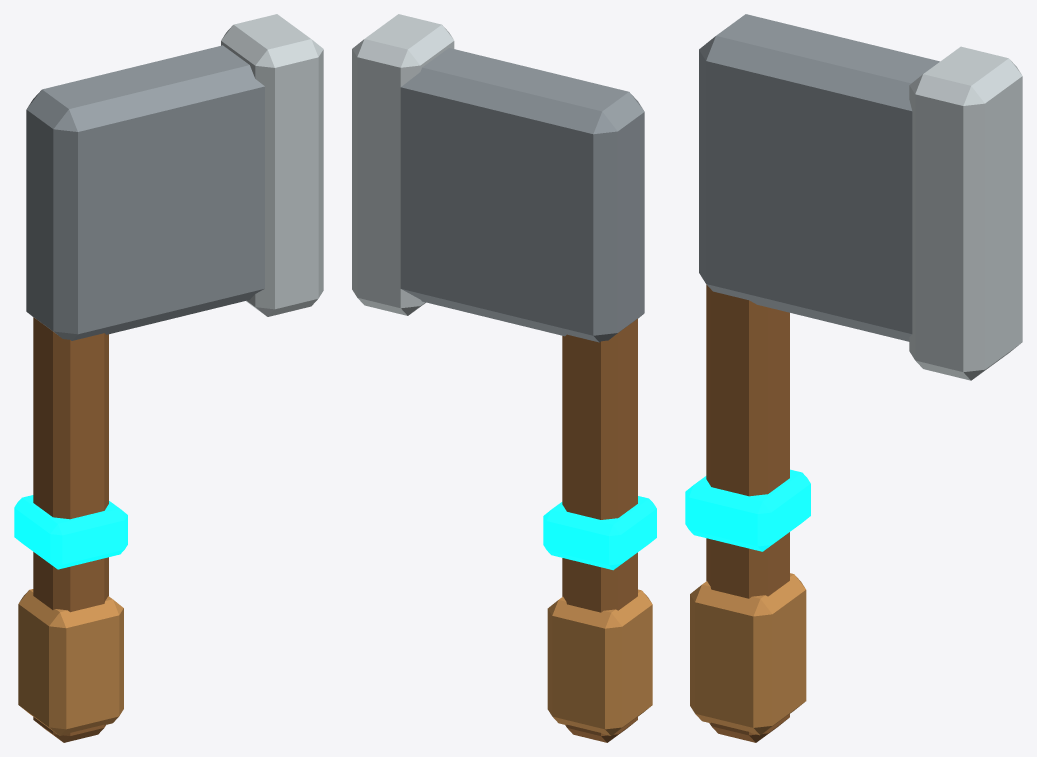
File: voxhaven-axe.glb
3 renders of one model, left to right at view 1: azimuth 30°, elevation 25°; view 2: azimuth 150°, elevation 25°; view 3: azimuth 330°, elevation 25°, orthographic. The views are drawn at different scales.
Parts seen in each view (by area): view 1: AxeHead, AxeBlade, Handle.001, Grip.001, GripBand.001; view 2: AxeHead, Handle.001, AxeBlade, Grip.001, GripBand.001; view 3: AxeHead, AxeBlade, Handle.001, Grip.001, GripBand.001.
Boxes of the visible parts, bbox=[...] form: AxeHead: bbox=[26, 45, 264, 340]; AxeBlade: bbox=[221, 14, 323, 316]; Handle.001: bbox=[33, 317, 108, 742]; Grip.001: bbox=[18, 589, 123, 735]; GripBand.001: bbox=[14, 495, 127, 569]; AxeHead: bbox=[400, 48, 644, 342]; Handle.001: bbox=[562, 318, 637, 742]; AxeBlade: bbox=[352, 14, 454, 315]; Grip.001: bbox=[547, 589, 652, 735]; GripBand.001: bbox=[543, 496, 656, 570]; AxeHead: bbox=[699, 14, 939, 341]; AxeBlade: bbox=[909, 46, 1022, 380]; Handle.001: bbox=[706, 284, 789, 742]; Grip.001: bbox=[690, 573, 806, 735]; GripBand.001: bbox=[685, 469, 810, 551].
Bounding box in the file's own units: 0.875 × 2 × 0.27.
